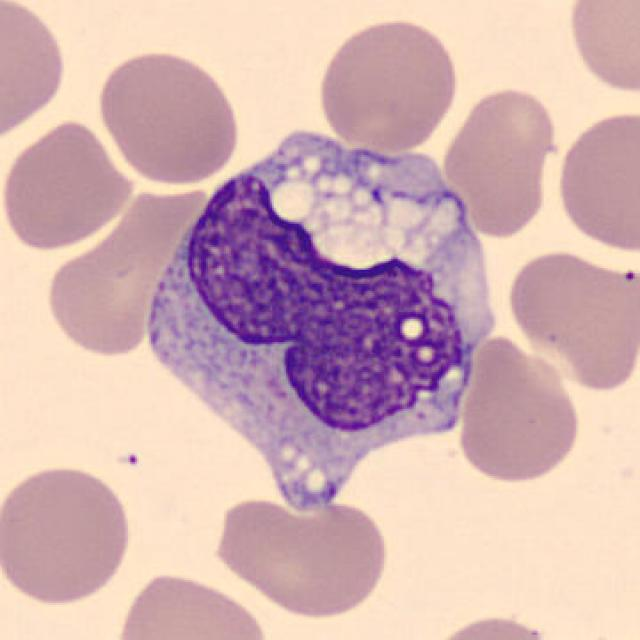Monocyte: (126, 117, 503, 532)
RBC: (47, 186, 209, 357), (208, 490, 393, 622), (92, 44, 244, 187), (313, 13, 462, 154), (0, 458, 137, 608), (503, 243, 638, 395), (453, 334, 585, 488), (437, 83, 562, 240), (0, 116, 137, 254), (553, 106, 638, 256), (110, 567, 273, 640), (0, 0, 71, 148), (562, 0, 638, 99), (420, 610, 566, 640)
